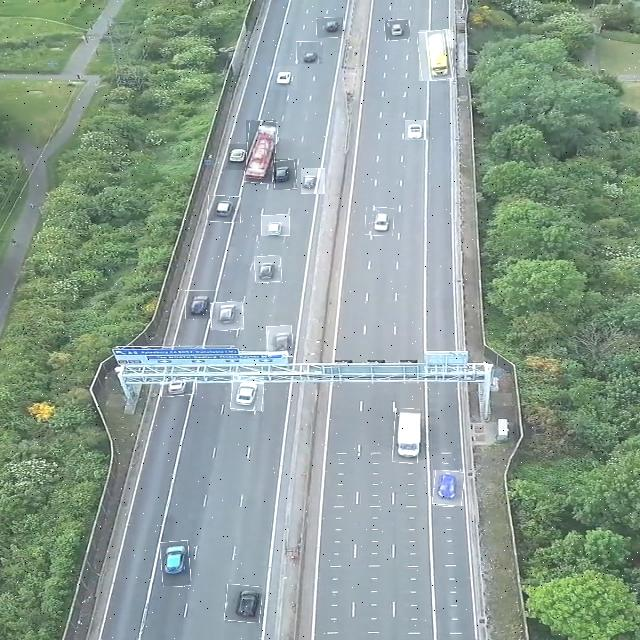Car: (225, 585, 262, 623), (162, 541, 190, 586), (231, 376, 264, 411), (433, 470, 464, 506), (210, 302, 244, 330), (185, 290, 216, 319), (208, 196, 241, 222), (266, 326, 292, 357), (366, 208, 394, 236), (254, 256, 282, 283), (273, 159, 297, 190), (267, 66, 297, 90), (302, 168, 326, 194), (296, 41, 323, 64), (261, 215, 290, 236), (160, 381, 197, 397), (317, 17, 345, 38), (385, 20, 410, 40), (406, 120, 430, 140), (228, 144, 246, 170)
Truck: (246, 120, 276, 184), (419, 30, 453, 81), (393, 408, 420, 463)
